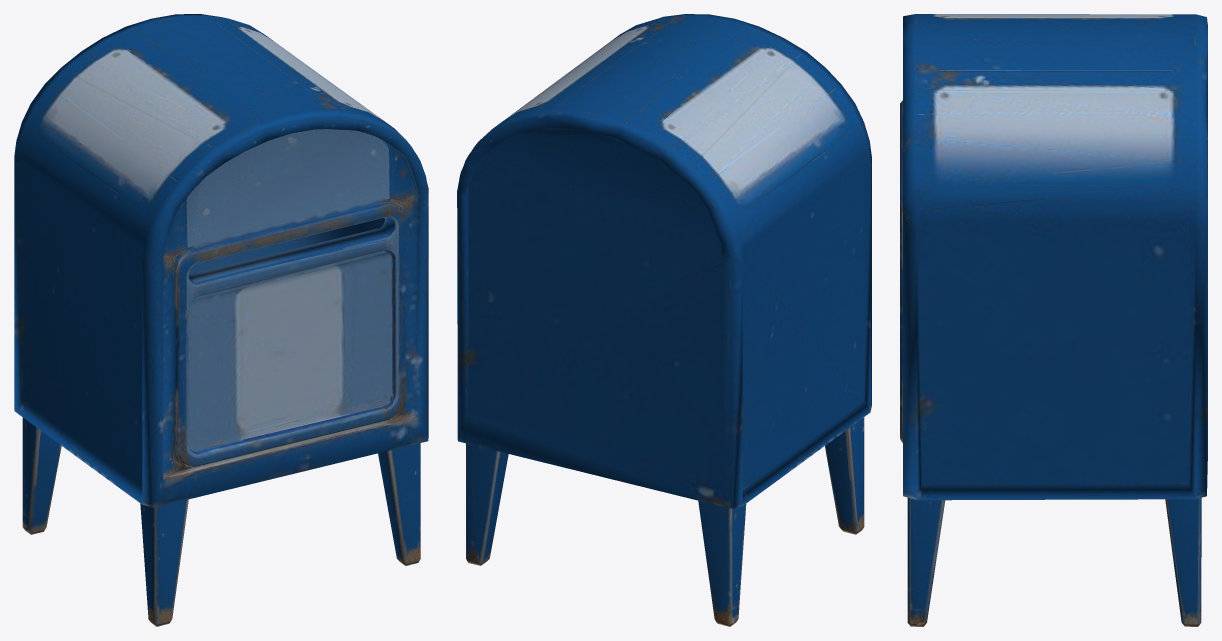
Rendered from mailbox.glb.
3 views of the same model, side by side, from view 1: azimuth 30°, elevation 25°; view 2: azimuth 150°, elevation 25°; view 3: azimuth 270°, elevation 25° (orthographic). The views are drawn at different scales.
Bounding box in the file's own units: 0.8144 × 1.3 × 0.695.
1 material, 1 textured.
